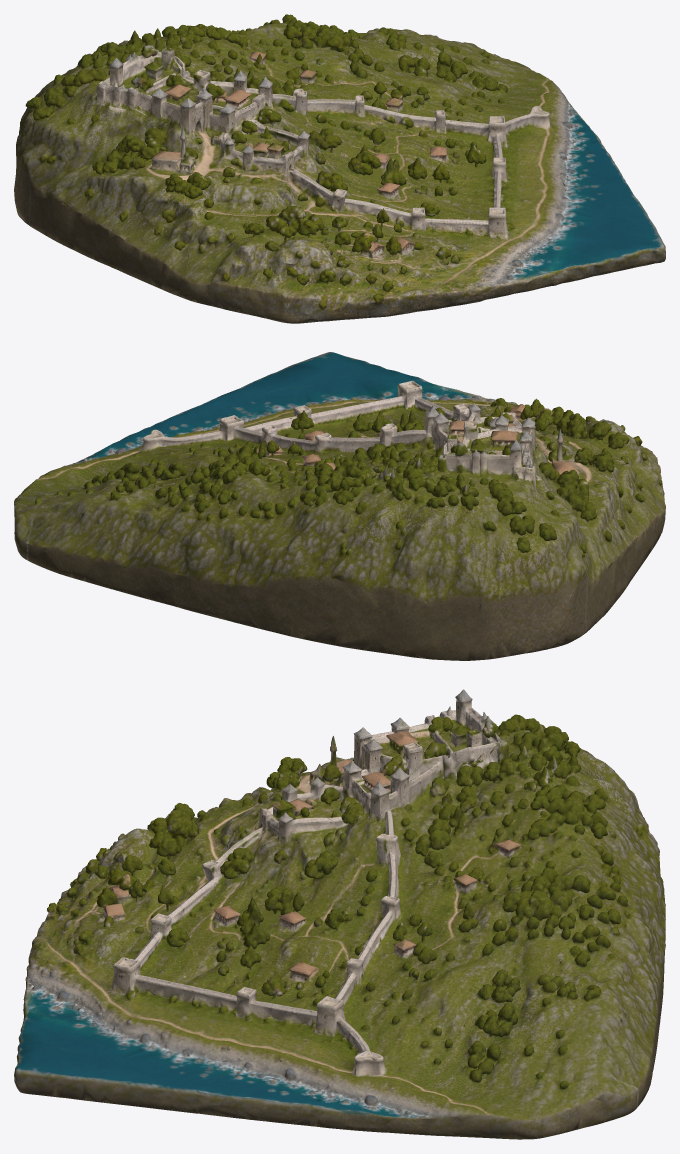
File: kale.glb
The picture shows the model from 3 angles, top to bottom: view 1: azimuth 30°, elevation 25°; view 2: azimuth 150°, elevation 25°; view 3: azimuth 270°, elevation 25°; orthographic projection. The views are drawn at different scales.
Visible parts, largest first — view 1: Mesh_0; view 2: Mesh_0; view 3: Mesh_0.
Part boxes in pixels (<box>): Mesh_0: <box>14,14,665,323</box>; Mesh_0: <box>14,352,665,660</box>; Mesh_0: <box>14,689,665,1139</box>.
Bounding box in the file's own units: 1.9 × 0.5469 × 1.7.
Materials: 1 (1 with a texture image).
